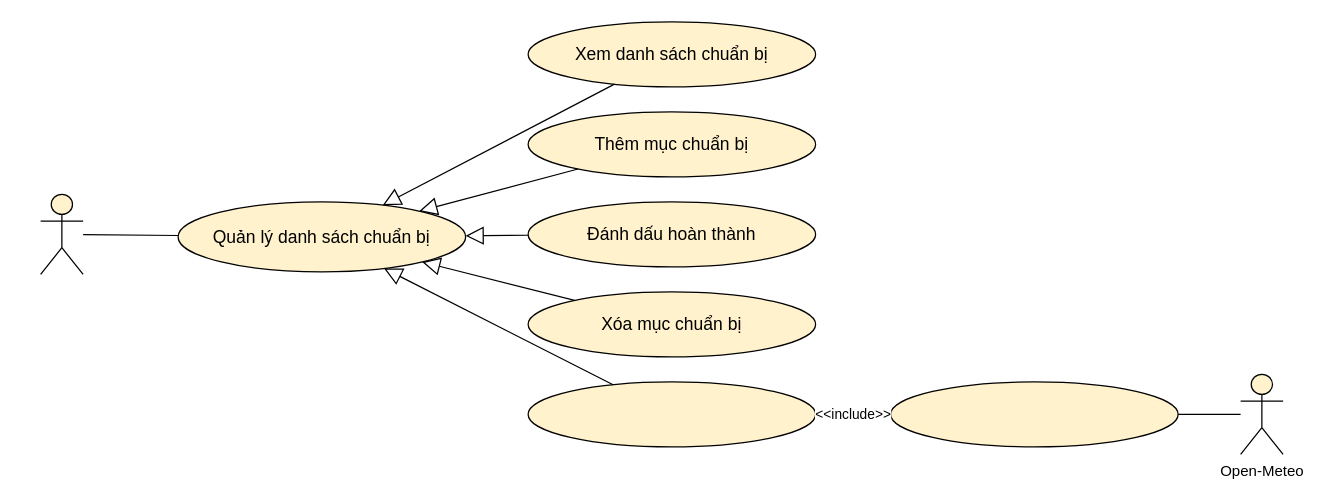
The diagram is 1325 pixels wide and 503 high, and some of its shapes have lost their labels. The centre of each missing label's shape, as x and y in pixels:
"Người dùng" goes at pixel 61 233.
"Nhận gợi ý chuẩn bị" goes at pixel 671 414.
"Tham chiếu dự báo thời tiết" goes at pixel 1033 414.
